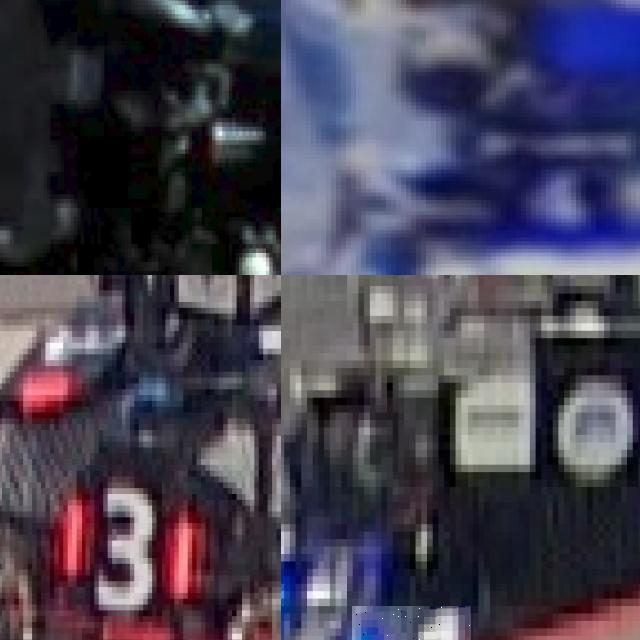B1: (352, 606, 472, 640)
R3: (50, 482, 205, 622), (5, 290, 126, 407)
